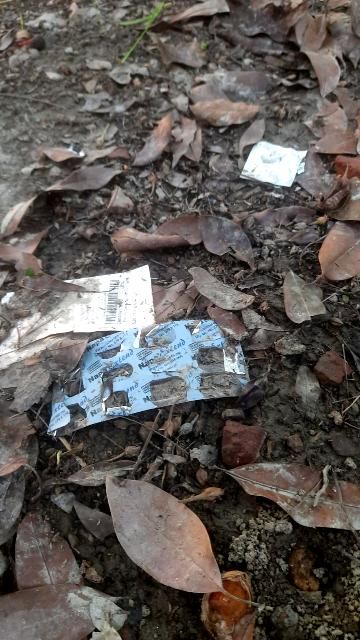medicine: (46, 301, 254, 444)
